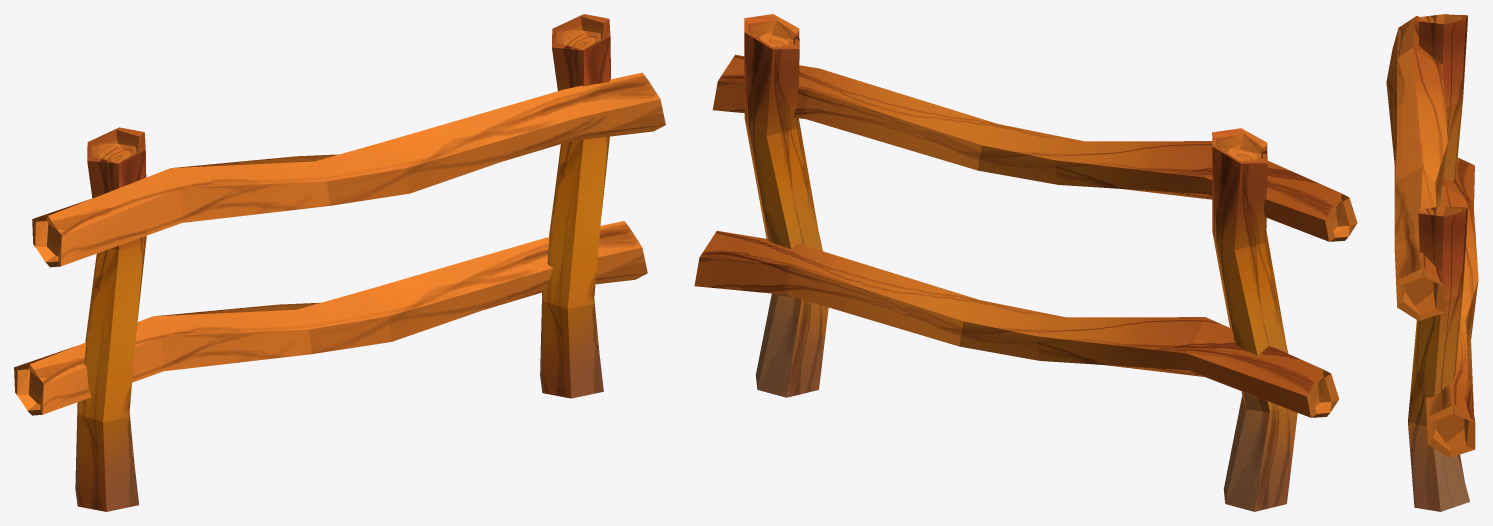
Rendered from Fence.fbx.
The picture shows the model from 3 angles, left to right: view 1: azimuth 30°, elevation 25°; view 2: azimuth 150°, elevation 25°; view 3: azimuth 270°, elevation 25°; orthographic projection. The views are drawn at different scales.
Parts seen in each view (by area): view 1: Circle.004, Circle.005; view 2: Circle.004, Circle.005; view 3: Circle.004, Circle.005.
Boxes of the visible parts, x1,y1,x2,y2 form: Circle.004: (14,72,665,415); Circle.005: (75,14,610,511); Circle.004: (694,54,1357,417); Circle.005: (744,14,1297,511); Circle.004: (1386,16,1478,457); Circle.005: (1408,14,1469,511).
Bounding box in the file's own units: 189 × 105 × 29.08.
Materials: 2 (2 with a texture image).
